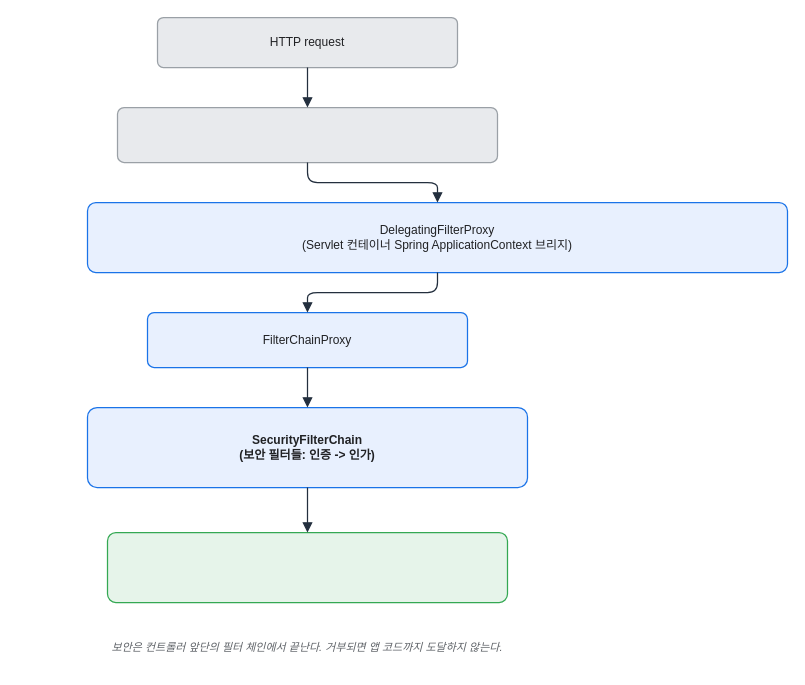
This 805x685 diagram has some shape labels left out. Each missing label, with the centre of its shape:
"Servlet container filter chain" goes at point 307,134.
"통과 시 -> DispatcherServlet -> 컨트롤러 (Series 1)" goes at point 307,567.
